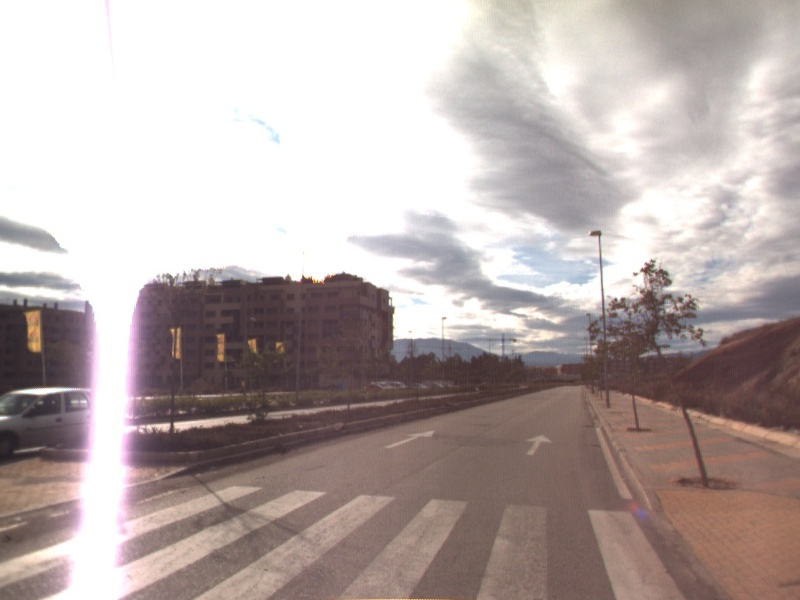STRAIGHT: (383, 428, 437, 450), (523, 432, 555, 457)
